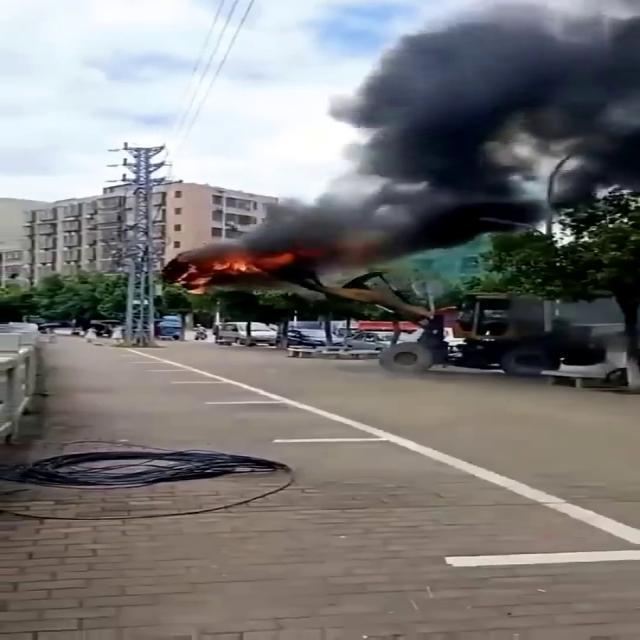Smoke: (249, 0, 640, 269)
